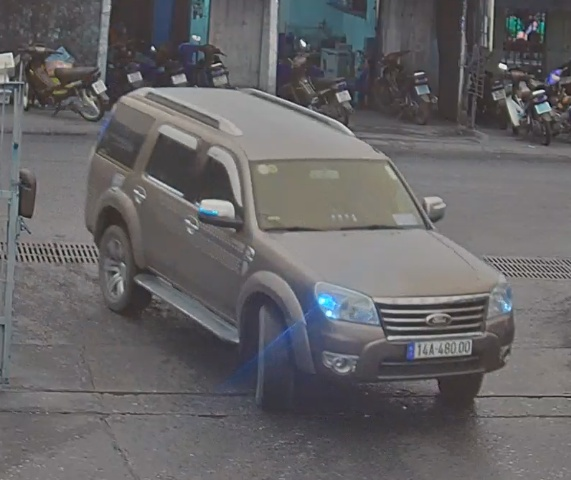vehicle plate: (401, 339, 476, 361)
